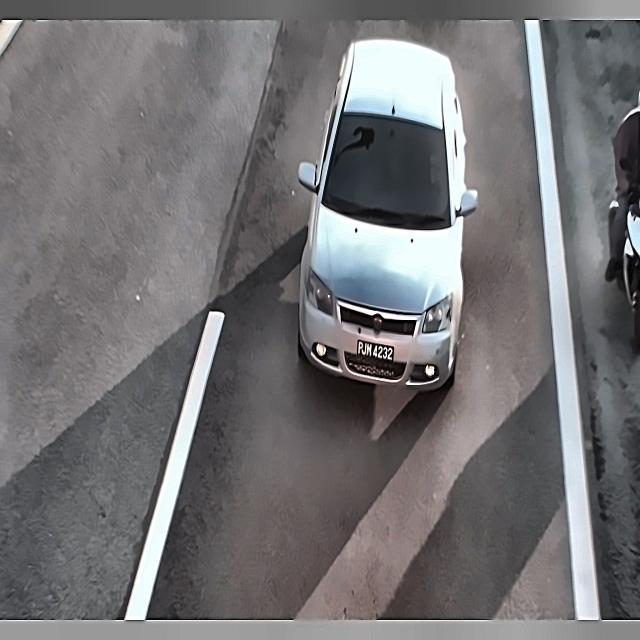car: (353, 334, 400, 368)
